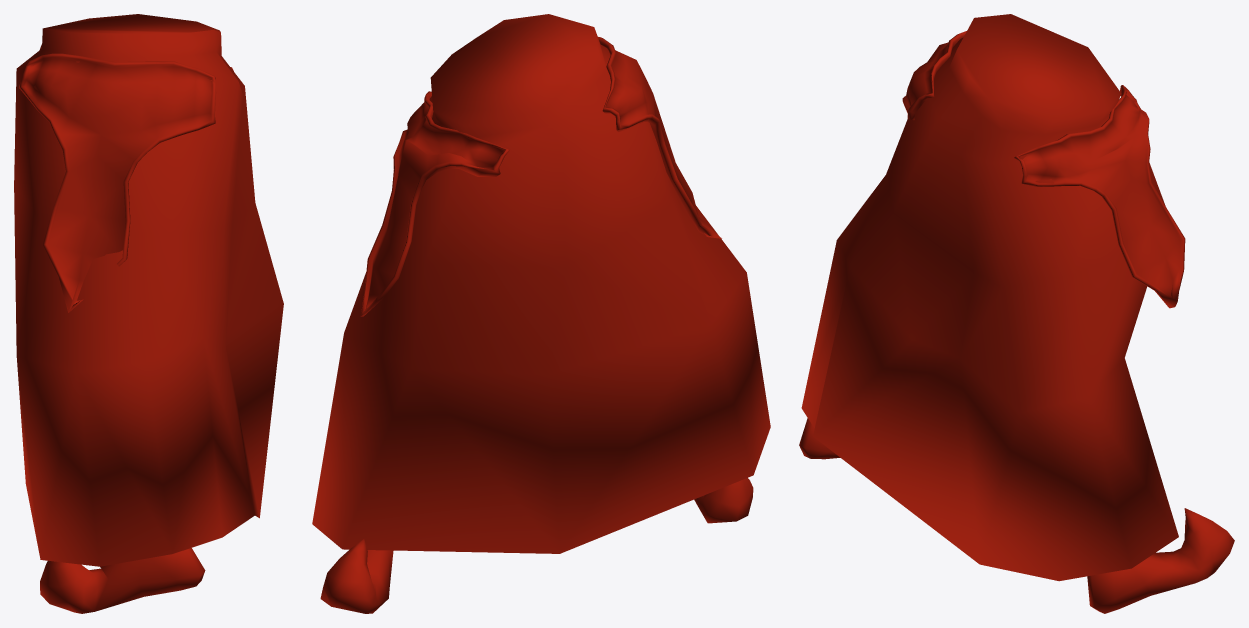
File: bot_000081.obj
3 views of the same model, side by side, from view 1: azimuth 30°, elevation 25°; view 2: azimuth 150°, elevation 25°; view 3: azimuth 270°, elevation 25° (orthographic). The views are drawn at different scales.
Visible parts, largest first — view 1: LowPoly_Warlock.004_Plane.004; view 2: LowPoly_Warlock.004_Plane.004; view 3: LowPoly_Warlock.004_Plane.004.
Boxes of the visible parts, bbox=[...] form: LowPoly_Warlock.004_Plane.004: bbox=[14, 14, 283, 613]; LowPoly_Warlock.004_Plane.004: bbox=[312, 14, 770, 613]; LowPoly_Warlock.004_Plane.004: bbox=[799, 14, 1234, 613].
Bounding box in the file's own units: 0.7029 × 1.18 × 0.8891.
